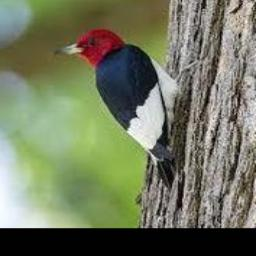Woodpecker: (54, 28, 198, 188)
